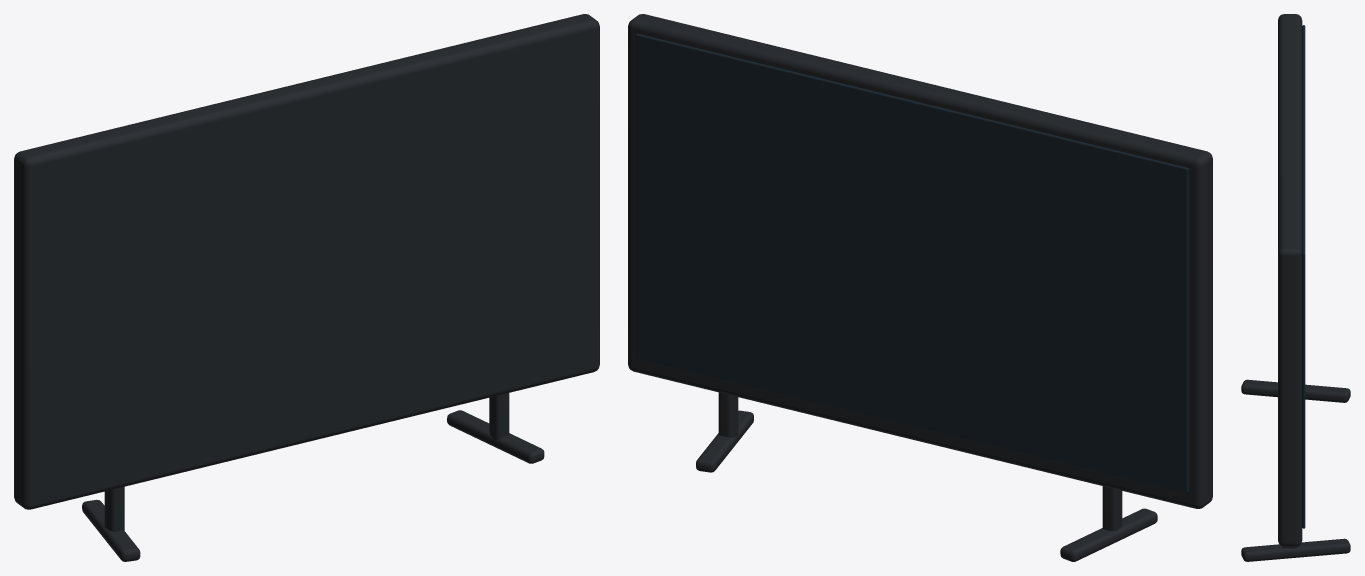
Rendered from hi3d-television_1.glb.
3 views of the same model, side by side, from view 1: azimuth 30°, elevation 25°; view 2: azimuth 150°, elevation 25°; view 3: azimuth 270°, elevation 25° (orthographic). The views are drawn at different scales.
Visible parts, largest first — view 1: television_mesh; view 2: television_mesh; view 3: television_mesh.
Boxes of the visible parts, x1,y1,x2,y2 form: television_mesh: [14, 14, 599, 561]; television_mesh: [628, 14, 1212, 561]; television_mesh: [1241, 14, 1350, 561].
Size of the model in its own units: 1.44 by 0.97 by 0.2794.
